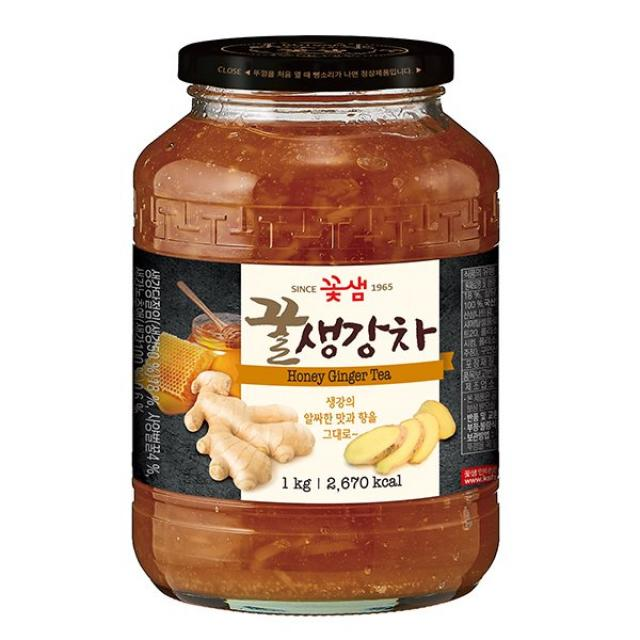ginger: (175, 363, 318, 497), (330, 403, 464, 473)
